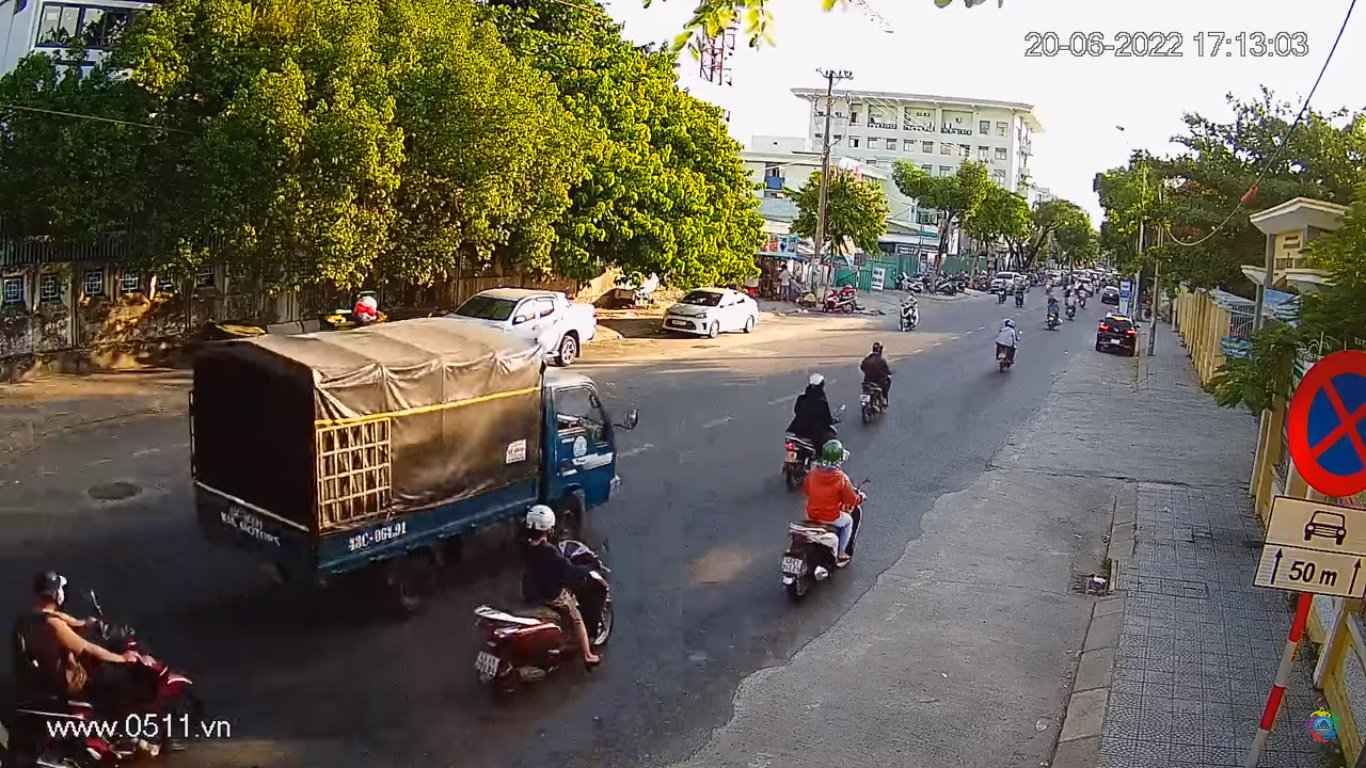truck: (180, 307, 640, 604)
